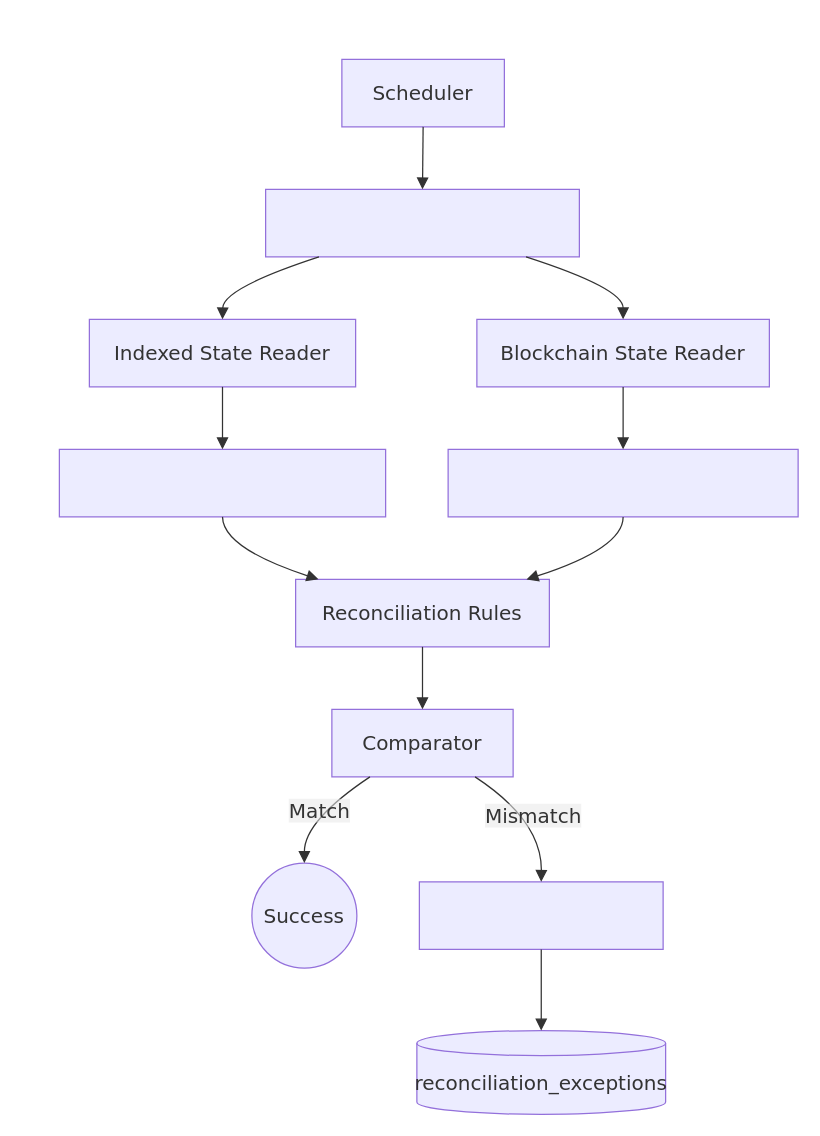
The diagram is 820 pixels wide and 1136 high, and some of its shapes have lost their labels. Each missing label, with the box of its shape:
Exception Manager: (418, 881, 663, 949)
Expected State / Authoritative: (447, 448, 798, 517)
Observed State / Projection: (58, 448, 386, 517)
Reconciliation Coordinator: (264, 188, 579, 257)
